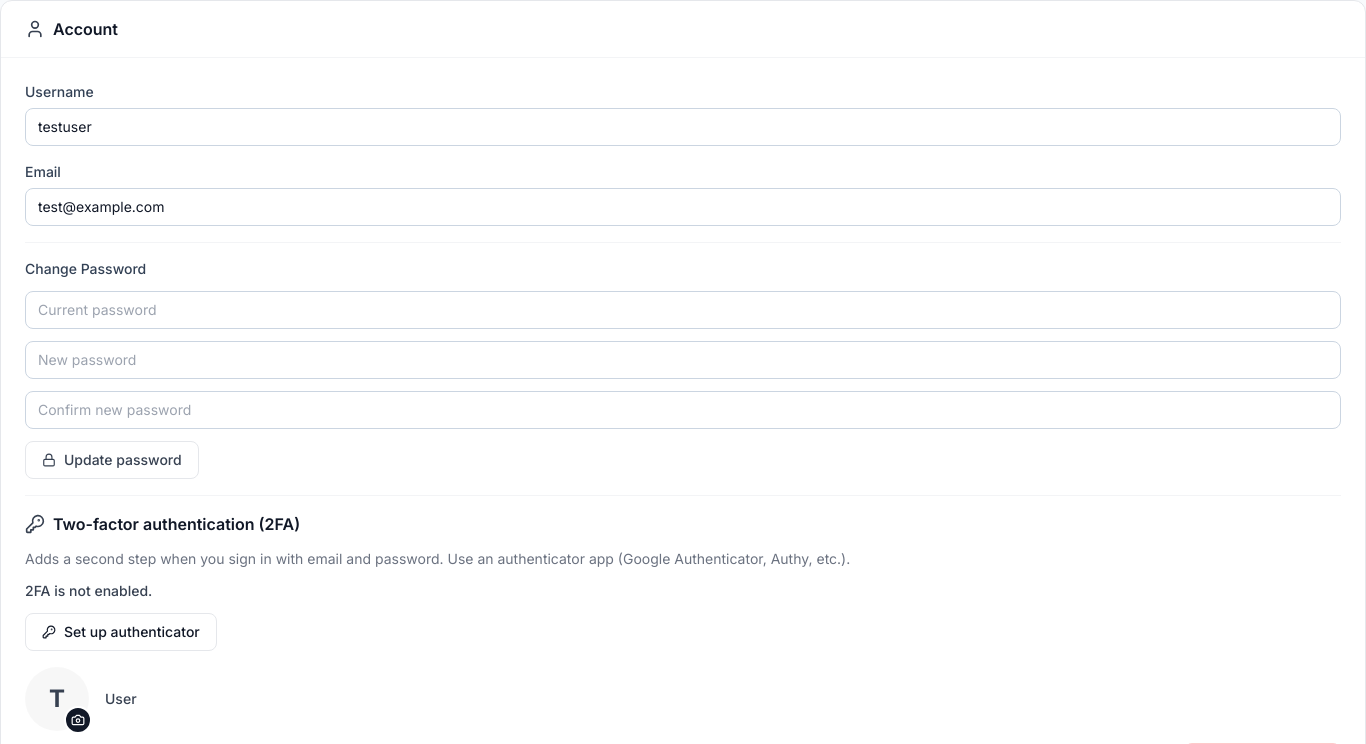
it: AccountTab › FE-COMP-ACCOUNT-011: password mismatch shows error
The width and height of the screenshot is (1366, 744).
// Fill current, new, and mismatched confirm
Step 1. Type "currentpass" into the password field with placeholder "Current password" → (683, 310), box x1=25 y1=291 x2=1341 y2=329
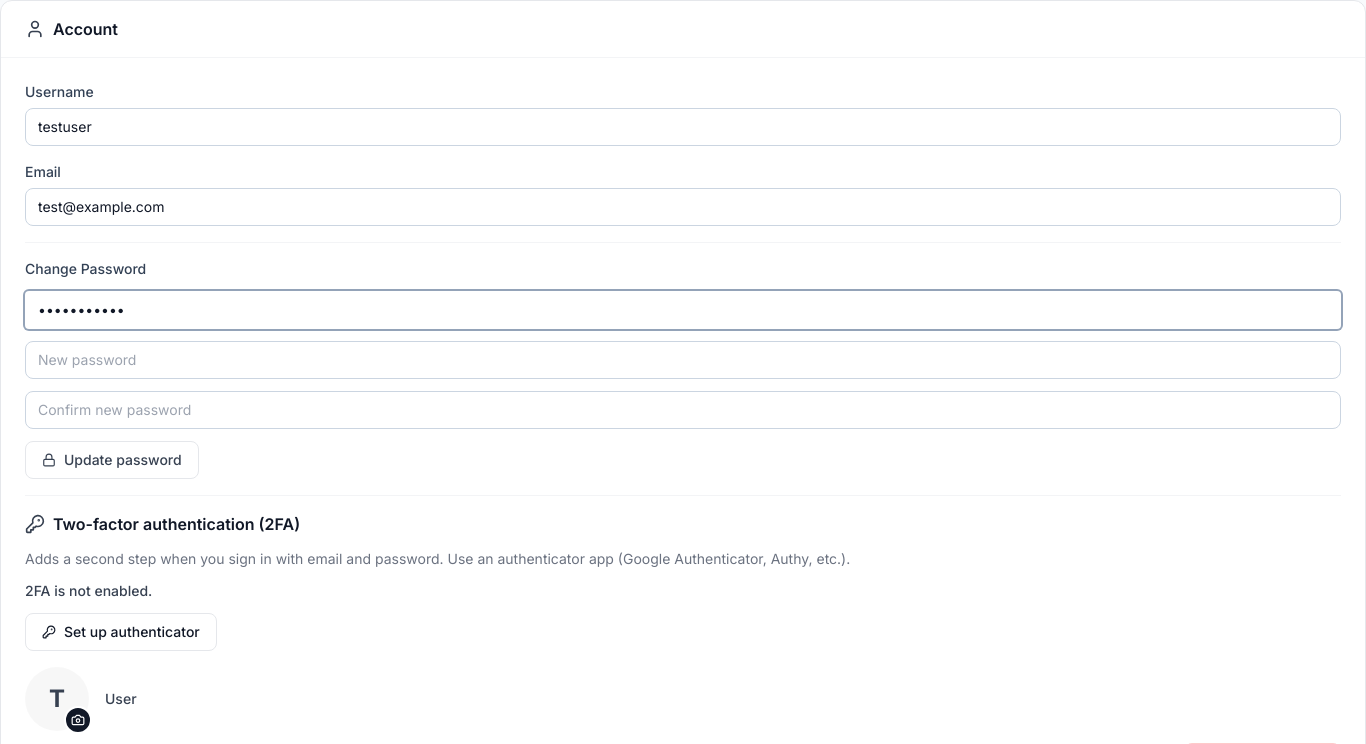
Step 2. Type "NewPassword1!" into the password field with placeholder "New password" → (683, 360), box x1=25 y1=341 x2=1341 y2=379
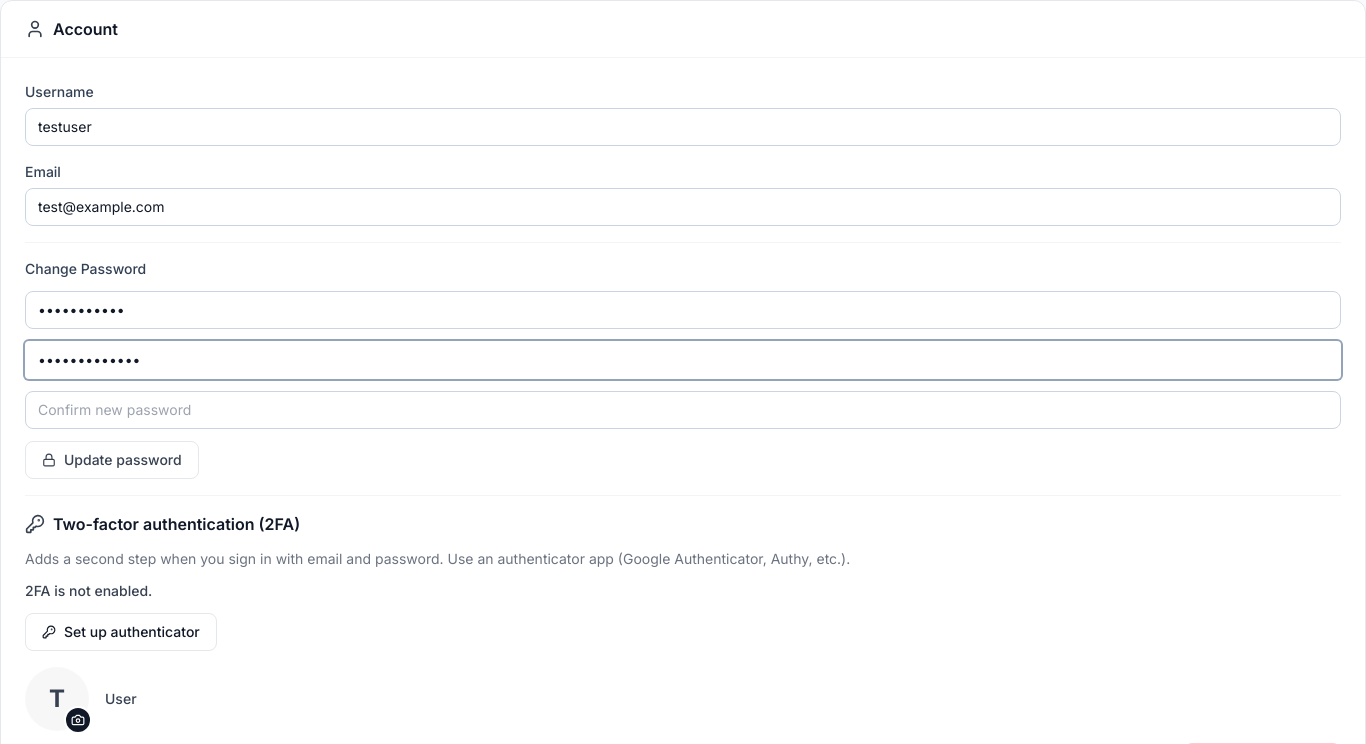
Step 3. Type "DifferentPass1!" into the password field with placeholder "Confirm new password" → (683, 410), box x1=25 y1=391 x2=1341 y2=429
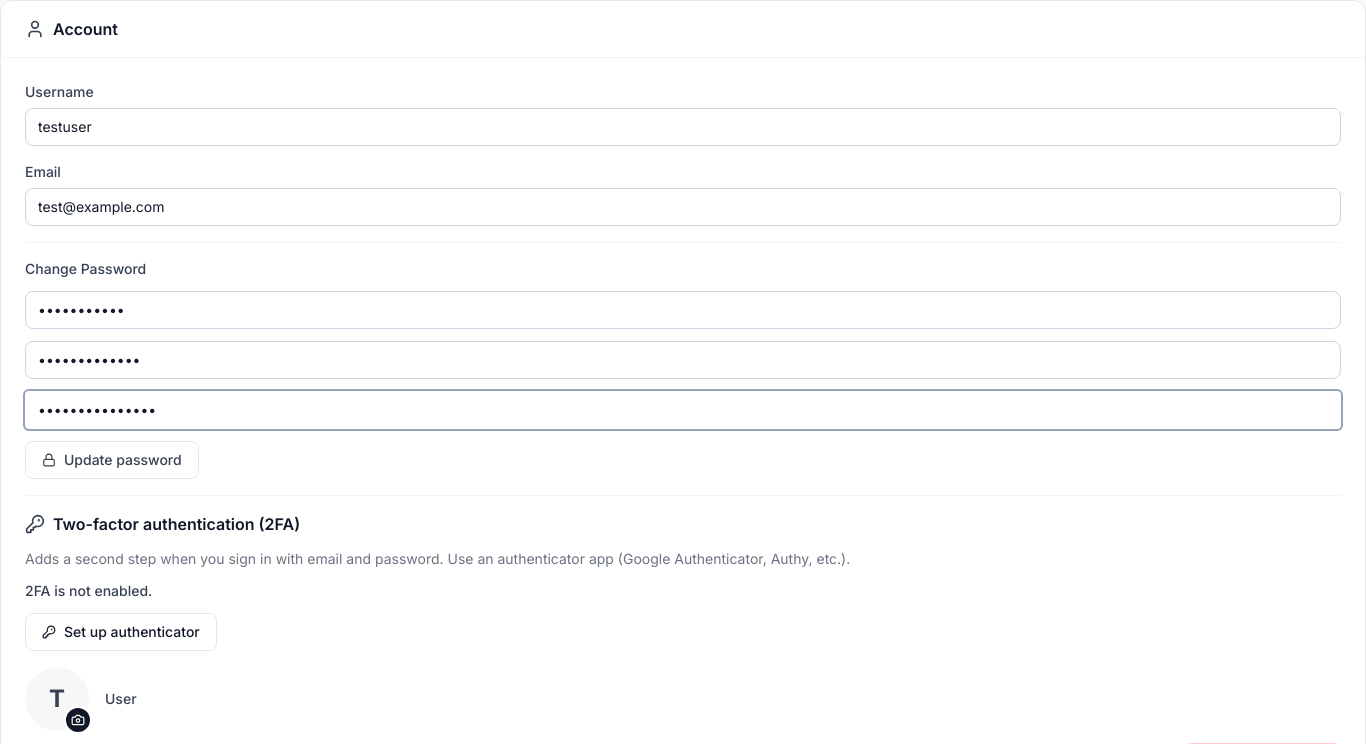
Step 4. Click the button "Update password" → (112, 460), box x1=25 y1=441 x2=199 y2=479
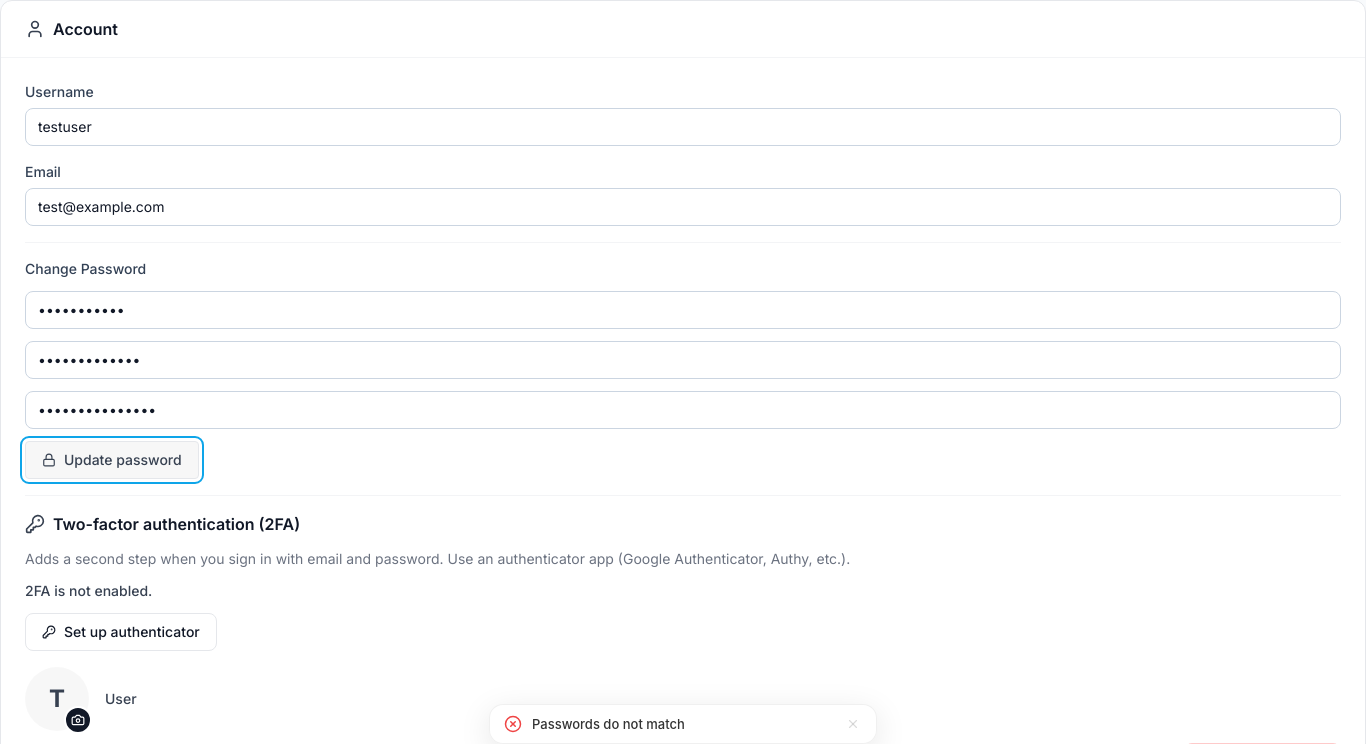
Result: the text "Passwords do not match" is shown at x1=532 y1=716 x2=685 y2=732
